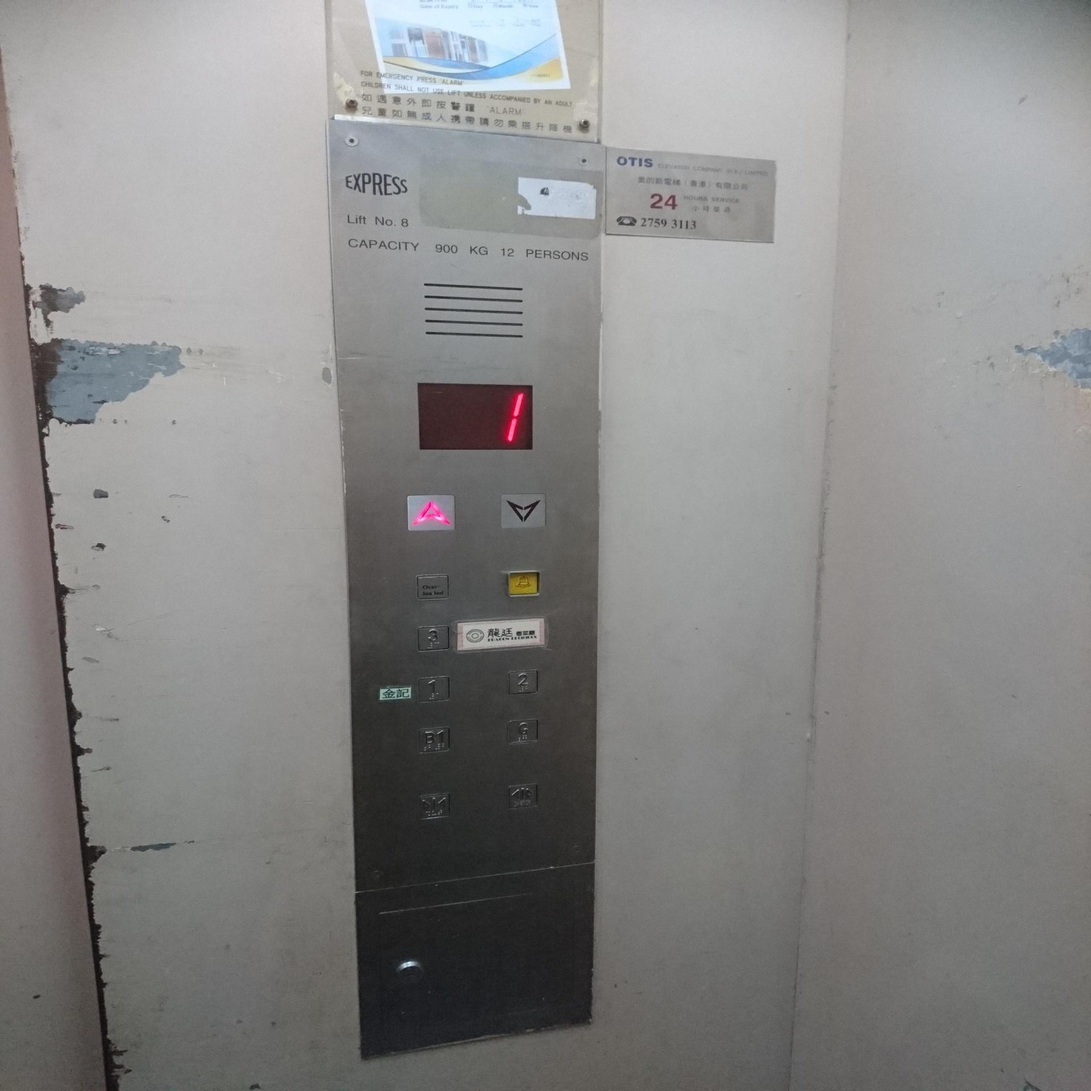1: (415, 674, 451, 703)
2: (506, 668, 539, 696)
3: (414, 624, 451, 653)
B1: (415, 724, 451, 754)
G: (506, 716, 539, 746)
alarm: (503, 569, 542, 597)
close: (415, 790, 452, 821)
down: (498, 490, 548, 531)
led: (413, 380, 535, 452)
open: (506, 781, 539, 810)
unknown: (414, 573, 450, 601)
up: (405, 492, 457, 532)
